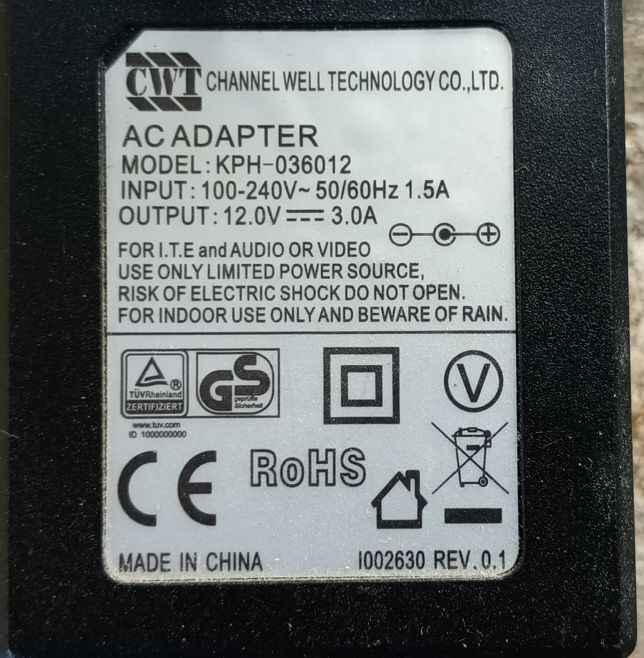p1: (270, 147, 361, 176)
p2: (220, 201, 268, 228)
p3: (327, 201, 364, 228)
p4: (345, 539, 511, 575)
p5: (400, 170, 461, 204)
